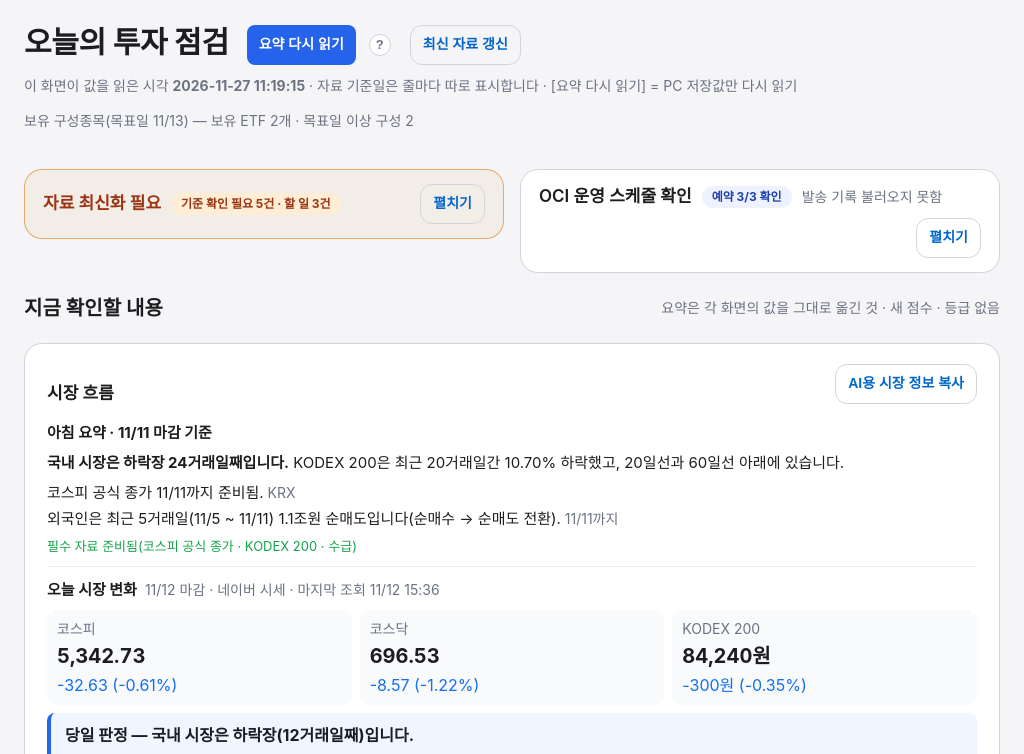
Test: TodayInvestmentCheckView › AC-13: KOSPI 지수 거래량은 미제공 · 공격방어 · SuperTrend 는 이번 단계 미도입으로 남는다
Click the button with class "tc-fold-btn" next to "기준 확인 필요 5건 · 할 일 3건" at (453, 204), box [420, 184, 485, 224]
(page scrolled)
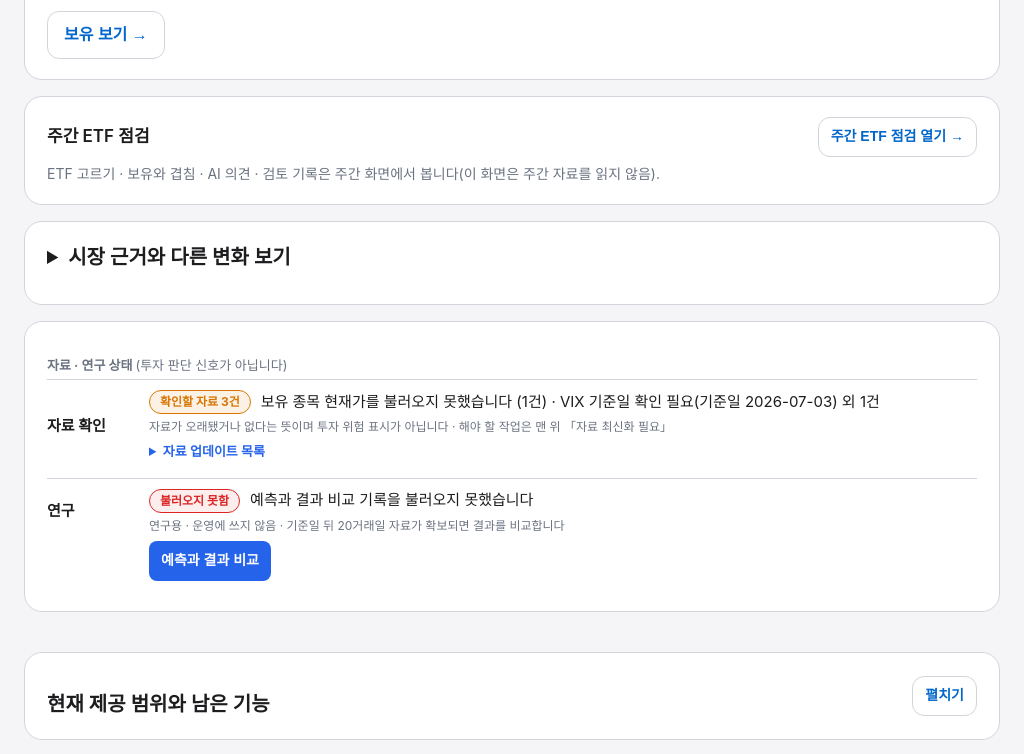
Click the button with class "tc-fold-btn" showing "펼치기" at (945, 696), box [912, 676, 977, 716]
(page scrolled)
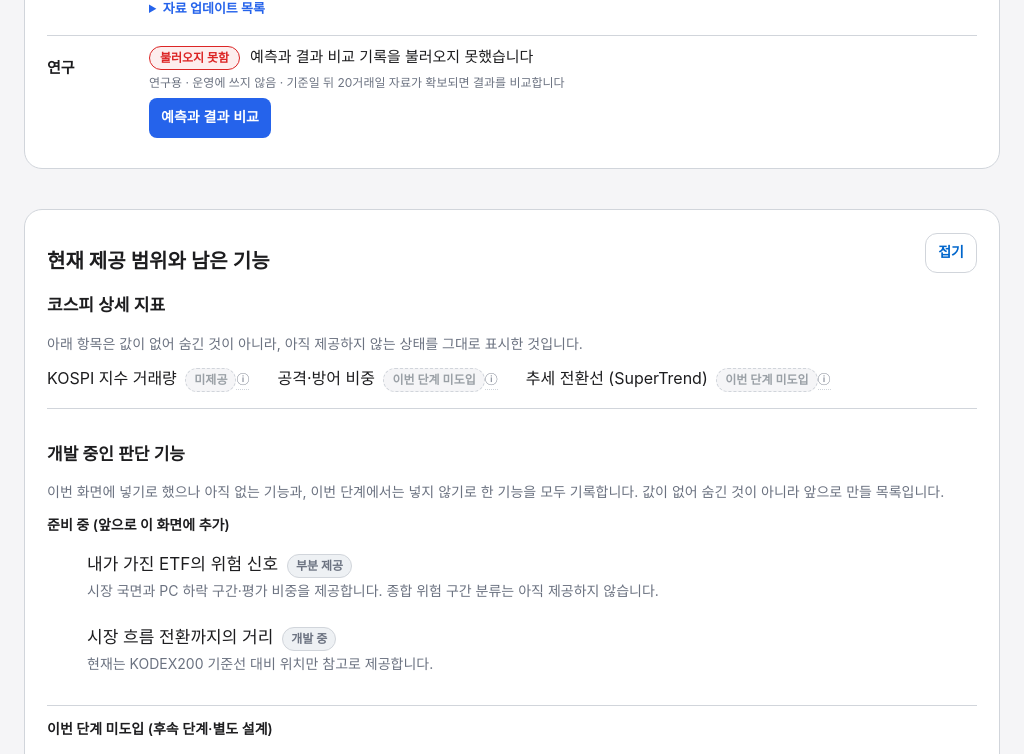
Now the text "KOSPI 지수 거래량" is shown, box [47, 368, 177, 388]
Now the text "미제공" is shown, box [185, 368, 236, 392]
Now the text "공격·방어 비중" is shown, box [278, 368, 375, 388]
